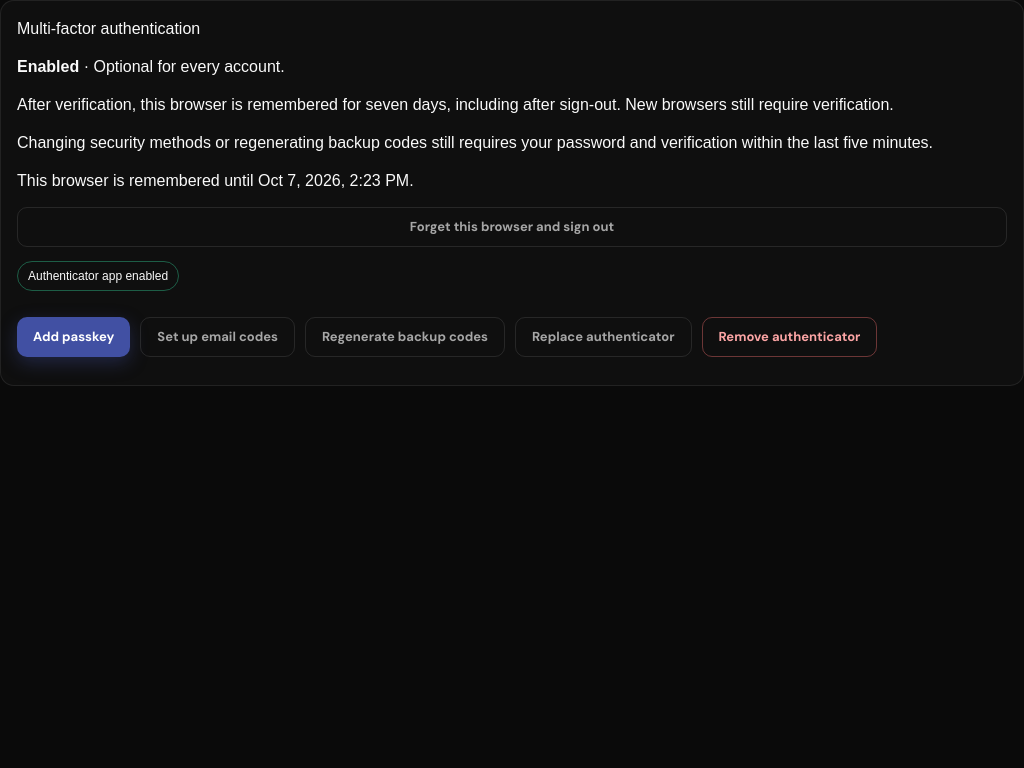
weekly MFA browser controls › keeps a failed forget request retryable
Click the button "Forget this browser and sign out".
click(512, 227)  # box [17,207,1007,247]
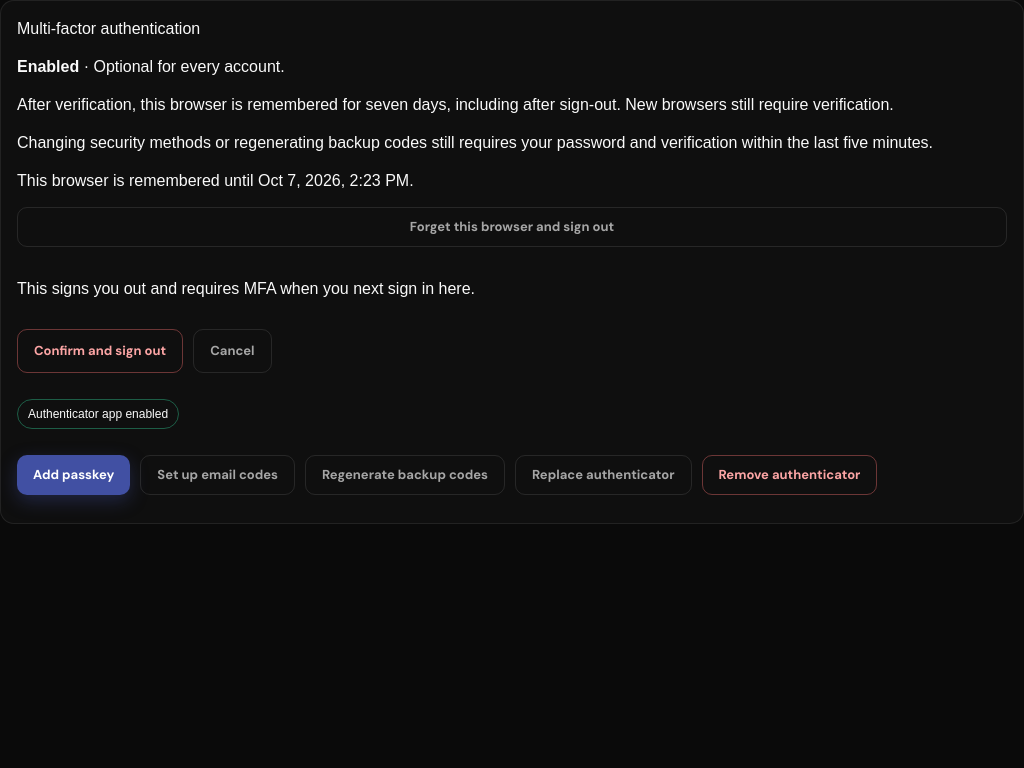
Click the button "Confirm and sign out".
click(100, 351)  # box [17,329,183,373]
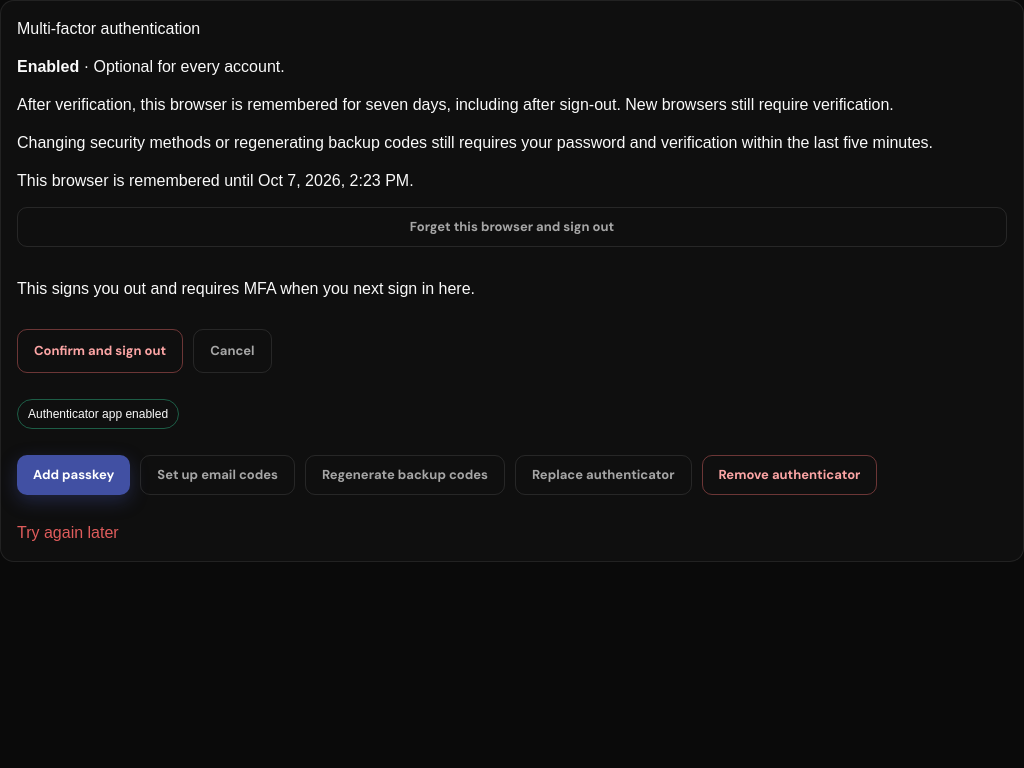
Expected: the message "Try again later" is shown, [17,524,119,541]
